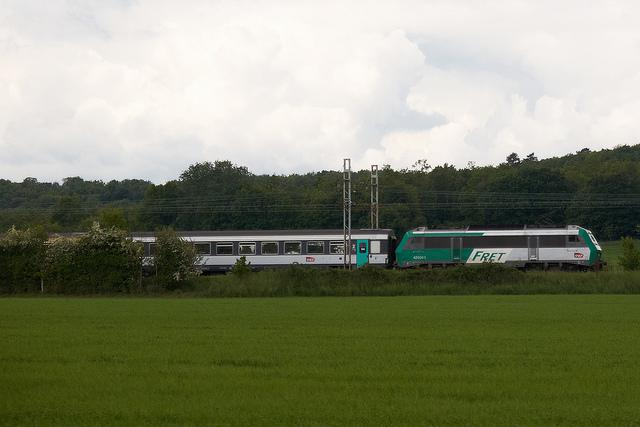Train: (122, 224, 611, 279)
